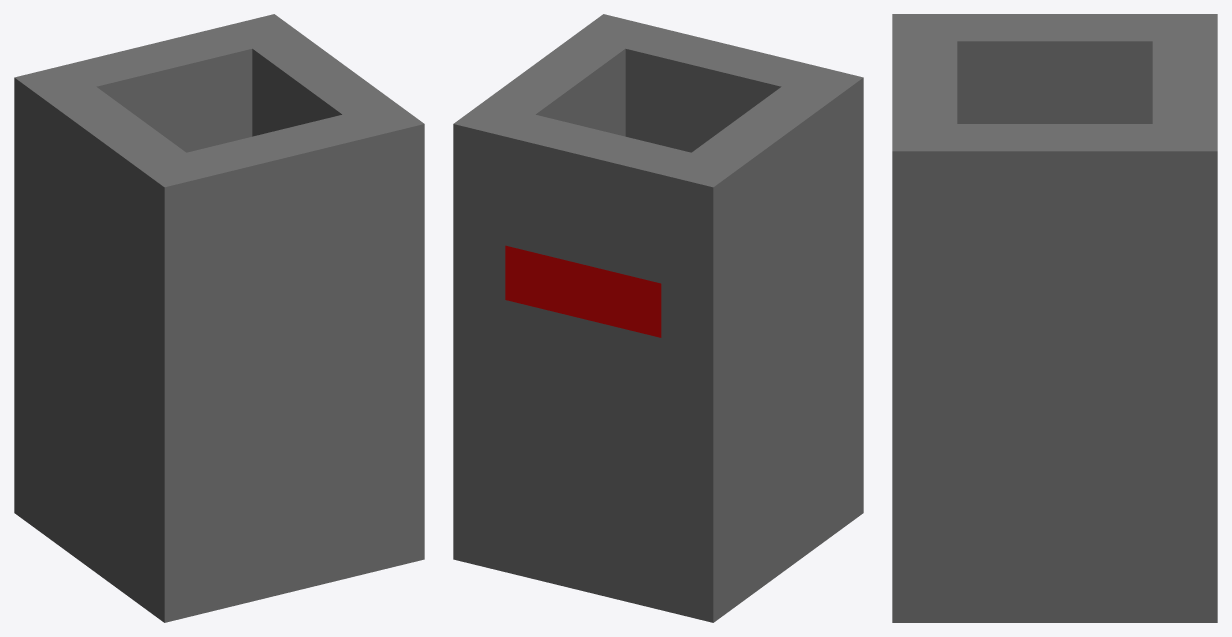
File: Trash can.fbx
3 renders of one model, left to right at view 1: azimuth 30°, elevation 25°; view 2: azimuth 150°, elevation 25°; view 3: azimuth 270°, elevation 25°, orthographic. The views are drawn at different scales.
Parts seen in each view (by area): view 1: 立方体.122, 立方体.058, 立方体.001, 立方体.090, 立方体.106, 立方体.074, 立方体.042, 立方体.026, 立方体.124, 立方体.123, 立方体.125, 立方体.136 (+70 smaller); view 2: 立方体.133, 立方体.069, 立方体.021, 立方体.101, 立方体.117, 立方体.085, 立方体.053, 立方体.037, 立方体.135, 立方体.134, 立方体.136, 立方体.125 (+70 smaller); view 3: 立方体.129, 立方体.130, 立方体.126, 立方体.127, 立方体.128, 立方体.131, 立方体.132, 立方体.137, 立方体.082, 立方体.098, 立方体.114, 立方体.078 (+42 smaller).
Part boxes in pixels (left/top/right/bottom): 立方体.122: left=134, top=152, right=216, bottom=241; 立方体.058: left=134, top=383, right=216, bottom=459; 立方体.001: left=134, top=546, right=216, bottom=622; 立方体.090: left=134, top=274, right=216, bottom=350; 立方体.106: left=134, top=220, right=216, bottom=296; 立方体.074: left=134, top=329, right=216, bottom=404; 立方体.042: left=134, top=438, right=216, bottom=513; 立方体.026: left=134, top=492, right=216, bottom=568; 立方体.124: left=239, top=127, right=320, bottom=216; 立方体.123: left=187, top=140, right=268, bottom=228; 立方体.125: left=291, top=114, right=372, bottom=203; 立方体.136: left=171, top=26, right=252, bottom=115; 立方体.133: left=661, top=152, right=743, bottom=241; 立方体.069: left=661, top=383, right=743, bottom=459; 立方体.021: left=661, top=546, right=743, bottom=622; 立方体.101: left=661, top=274, right=743, bottom=350; 立方体.117: left=661, top=220, right=743, bottom=296; 立方体.085: left=661, top=329, right=743, bottom=404; 立方体.053: left=661, top=438, right=743, bottom=513; 立方体.037: left=661, top=492, right=743, bottom=568; 立方体.135: left=557, top=127, right=638, bottom=216; 立方体.134: left=609, top=140, right=690, bottom=228; 立方体.136: left=505, top=114, right=586, bottom=203; 立方体.125: left=625, top=26, right=706, bottom=115; 立方体.129: left=1022, top=14, right=1087, bottom=100; 立方体.130: left=1022, top=124, right=1087, bottom=210; 立方体.126: left=892, top=124, right=957, bottom=210; 立方体.127: left=957, top=14, right=1022, bottom=100; 立方体.128: left=957, top=124, right=1022, bottom=210; 立方体.131: left=1087, top=14, right=1152, bottom=100; 立方体.132: left=1087, top=124, right=1152, bottom=210; 立方体.137: left=1152, top=124, right=1217, bottom=210; 立方体.082: left=1022, top=328, right=1087, bottom=387; 立方体.098: left=1022, top=269, right=1087, bottom=328; 立方体.114: left=1022, top=210, right=1087, bottom=269; 立方体.078: left=892, top=328, right=957, bottom=387.
Size of the model in its own units: 500 by 800 by 500.
